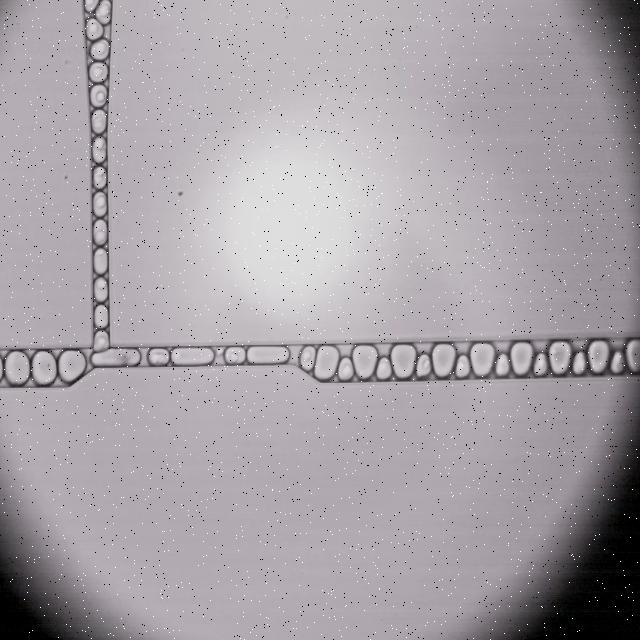L: (90, 39, 109, 60), (93, 248, 108, 273), (300, 346, 315, 371), (90, 85, 107, 107), (89, 63, 108, 82), (148, 348, 169, 365), (92, 137, 106, 162), (96, 1, 111, 24), (91, 110, 106, 133), (93, 278, 108, 301), (338, 357, 353, 380), (416, 354, 431, 377), (225, 347, 245, 364), (87, 18, 103, 39), (93, 192, 107, 216), (93, 220, 107, 244), (377, 357, 391, 380), (94, 305, 108, 327), (455, 356, 469, 378), (495, 354, 509, 376), (572, 353, 586, 375), (93, 332, 109, 351), (533, 354, 547, 375), (93, 166, 106, 188), (611, 351, 623, 373), (85, 0, 98, 12)
S: (58, 350, 86, 383), (314, 346, 339, 380), (93, 348, 140, 366), (391, 345, 416, 378), (470, 343, 495, 376), (353, 345, 377, 379), (32, 351, 56, 384), (5, 351, 29, 384), (433, 343, 456, 377), (510, 342, 533, 375), (247, 346, 289, 364), (549, 341, 571, 374), (172, 348, 214, 365), (588, 340, 609, 373), (626, 339, 640, 372)
